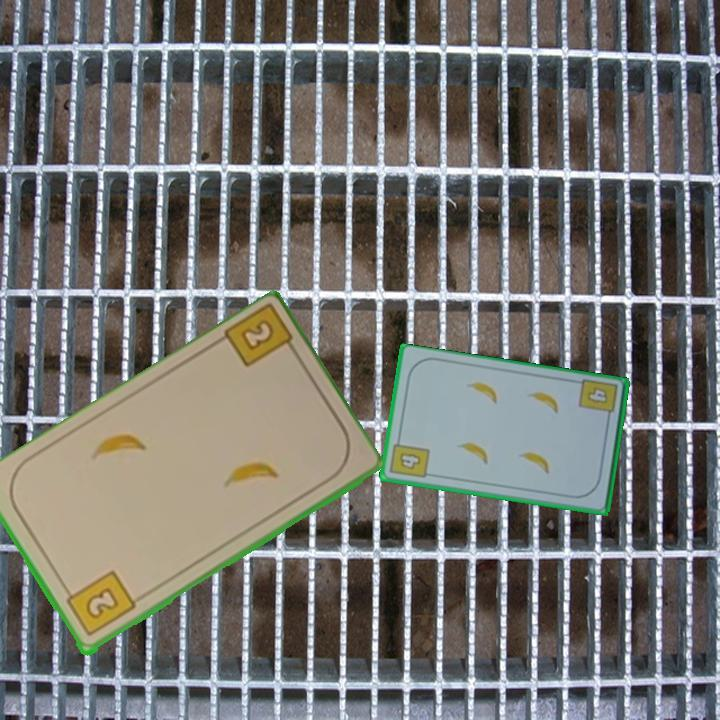2b: (60, 567, 139, 640), (219, 303, 302, 371)
4b: (576, 376, 620, 425), (387, 434, 432, 481)
